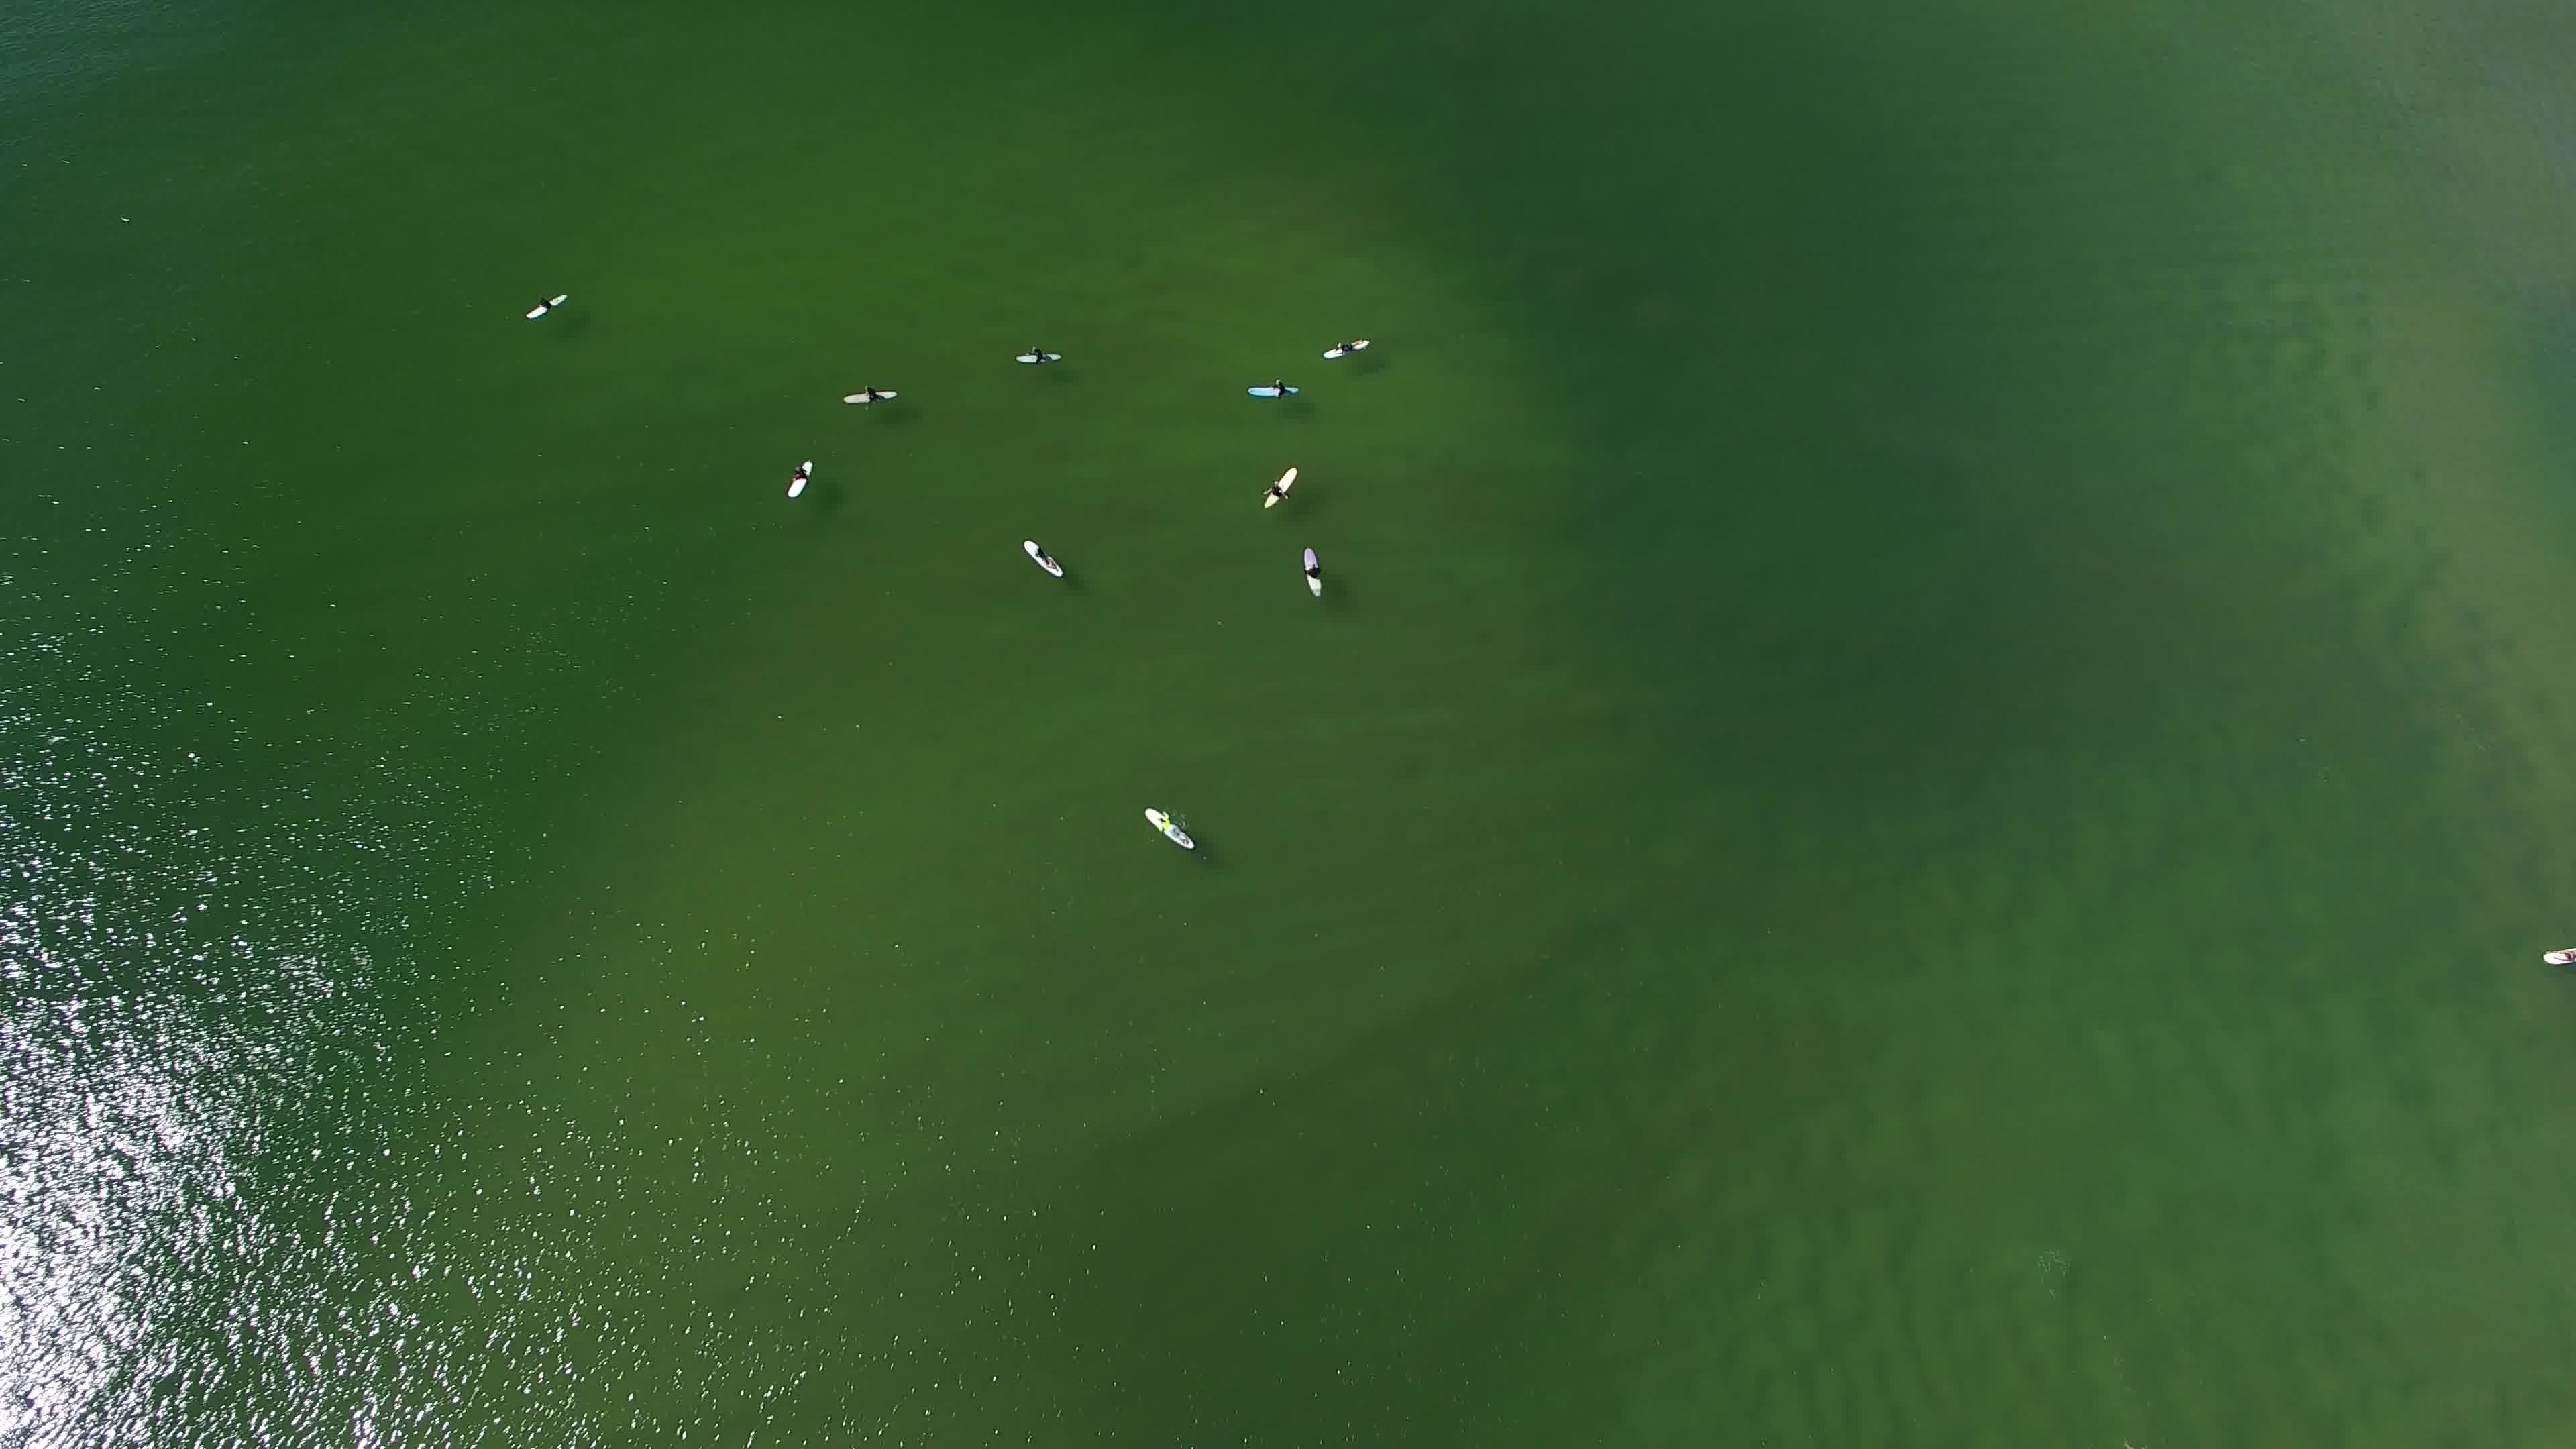surfer: (1139, 791, 1201, 858), (1019, 531, 1072, 584), (522, 287, 575, 329), (1299, 541, 1336, 600), (782, 449, 819, 506), (1318, 334, 1378, 364), (1244, 377, 1306, 405), (840, 382, 902, 409), (1263, 469, 1300, 511), (1010, 345, 1069, 372)
